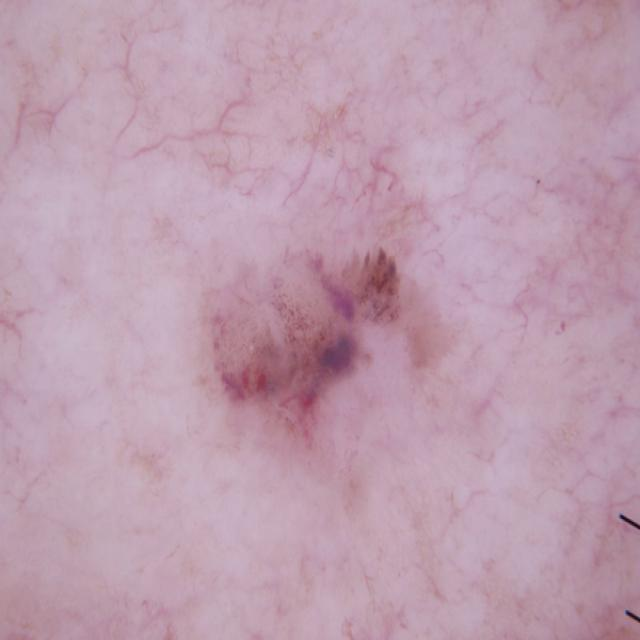Skin-Cancer Basal cell carcinoma: (94, 69, 502, 586)
